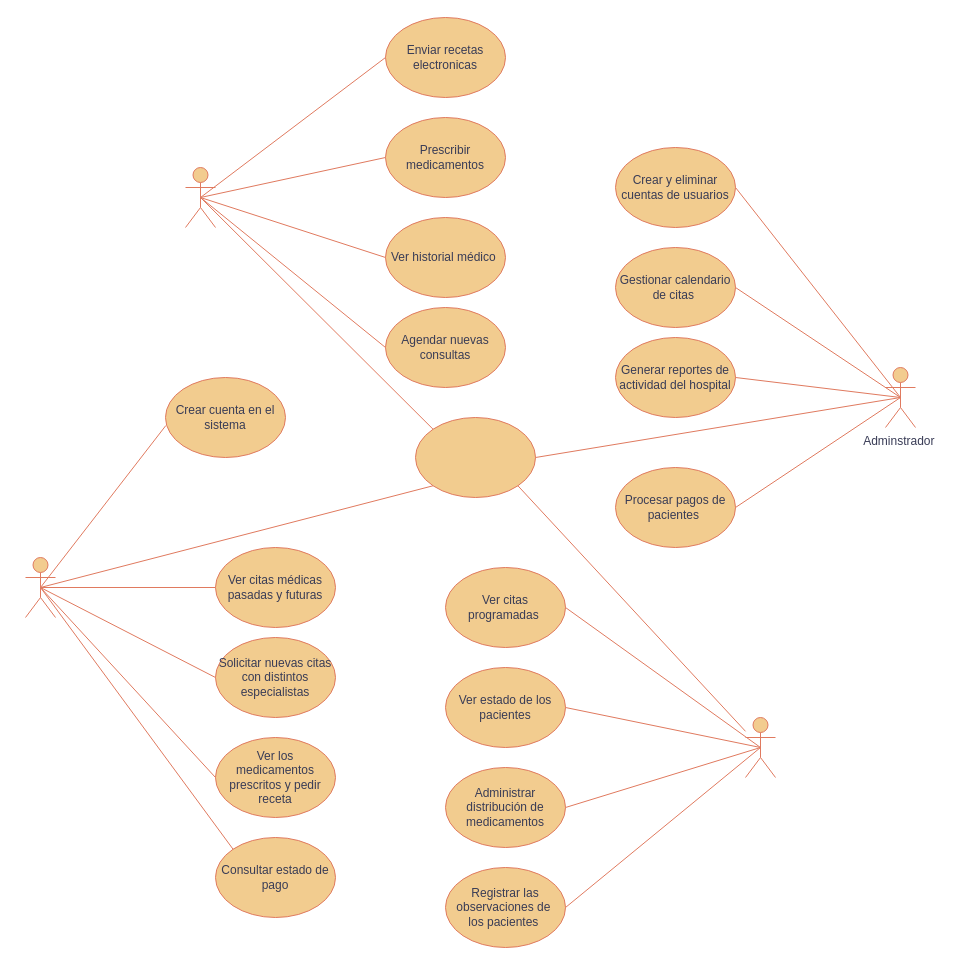
This 955x965 diagram has some shape labels left out. The box of each missing label's shape, as (x1, y1, x2, y2) in pixels:
Enfermeros: (744, 716, 776, 778)
Iniciar sesión: (414, 416, 536, 498)
Médico: (184, 166, 216, 228)
Paciente: (24, 556, 56, 618)
